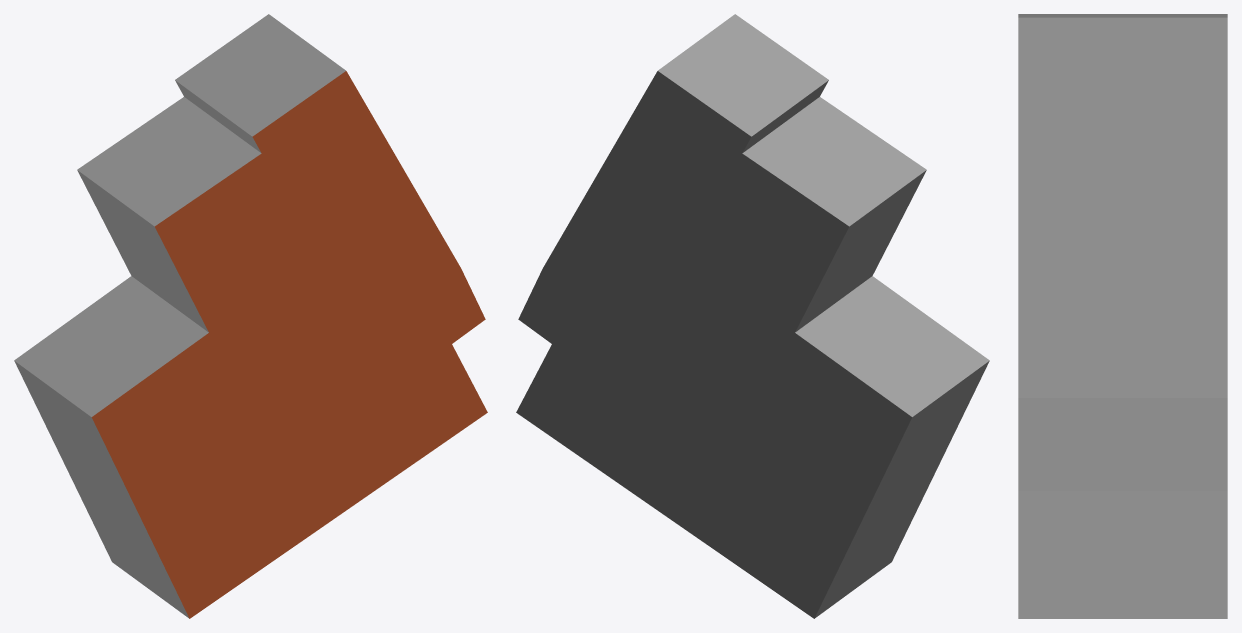
File: construction_5989_assumed_A_Casa_h6m.obj
3 renders of one model, left to right at view 1: azimuth 30°, elevation 25°; view 2: azimuth 150°, elevation 25°; view 3: azimuth 270°, elevation 25°, orthographic. The views are drawn at different scales.
Parts seen in each view (by area): view 1: construction_5989_assumed_A_Casa; view 2: construction_5989_assumed_A_Casa; view 3: construction_5989_assumed_A_Casa.
Part boxes in pixels (x1=…): construction_5989_assumed_A_Casa: x1=14, y1=14, x2=487, y2=618; construction_5989_assumed_A_Casa: x1=516, y1=14, x2=989, y2=618; construction_5989_assumed_A_Casa: x1=1018, y1=14, x2=1227, y2=618.
Size of the model in its own units: 17.7 by 21.77 by 6.
